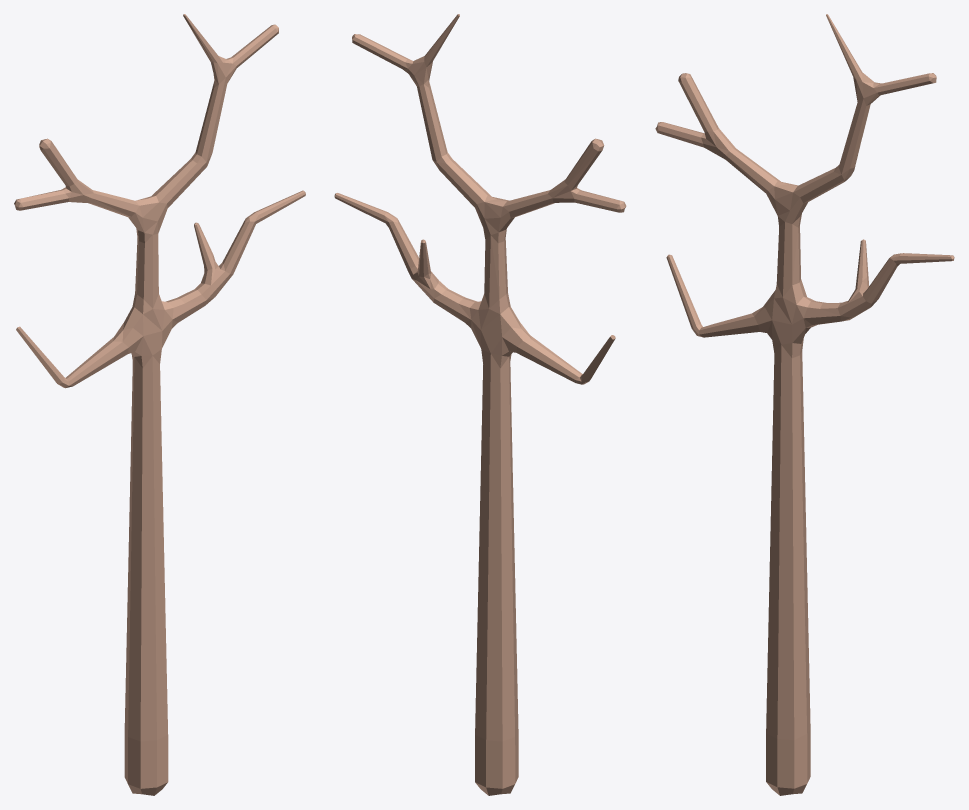
Rendered from trunk16.fbx.
3 renders of one model, left to right at view 1: azimuth 30°, elevation 25°; view 2: azimuth 150°, elevation 25°; view 3: azimuth 330°, elevation 25°, orthographic. The views are drawn at different scales.
Visible parts, largest first — view 1: trunk16; view 2: trunk16; view 3: trunk16.
Part boxes in pixels (bbox=[...]): trunk16: bbox=[14, 14, 305, 795]; trunk16: bbox=[334, 14, 626, 795]; trunk16: bbox=[655, 14, 954, 795].
Size of the model in its own units: 115 by 292 by 16.26.
